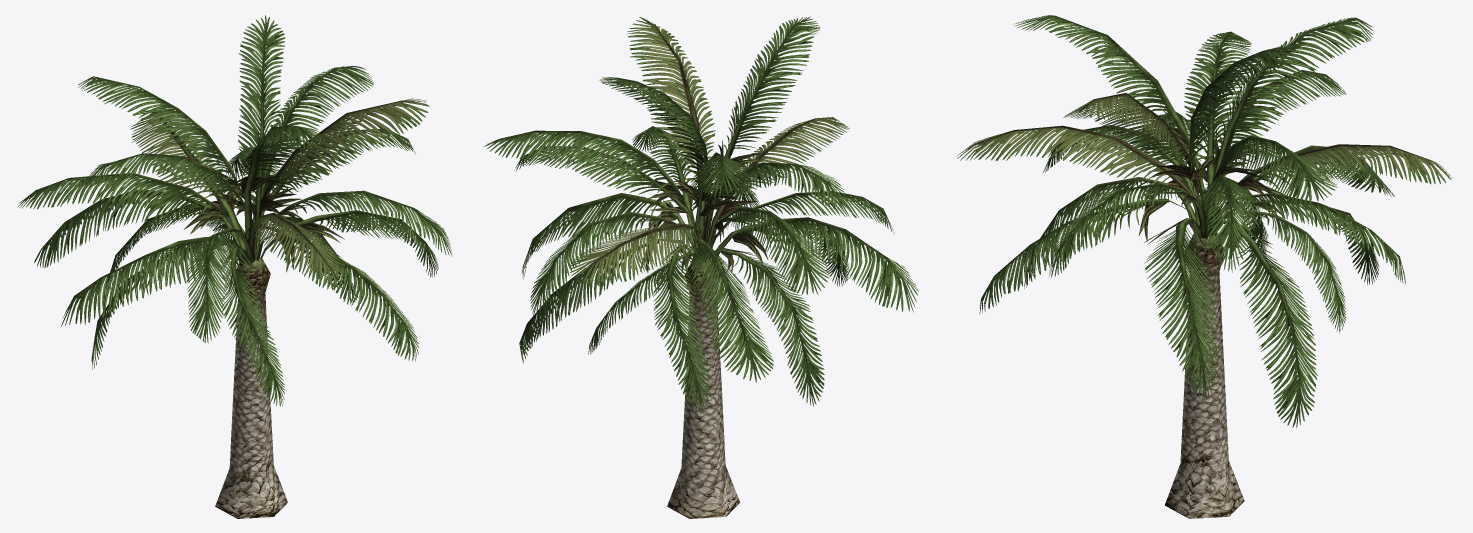
The model's file is Tree_DatePlam_Lod2.fbx.
The picture shows the model from 3 angles, left to right: view 1: azimuth 30°, elevation 25°; view 2: azimuth 150°, elevation 25°; view 3: azimuth 270°, elevation 25°; orthographic projection. The views are drawn at different scales.
Parts seen in each view (by area): view 1: Tree_DatePlam_Lod2; view 2: Tree_DatePlam_Lod2; view 3: Tree_DatePlam_Lod2.
Part boxes in pixels (x1,y1,x2,y2): Tree_DatePlam_Lod2: [17, 15, 452, 518]; Tree_DatePlam_Lod2: [484, 16, 918, 518]; Tree_DatePlam_Lod2: [957, 15, 1452, 518].
Bounding box in the file's own units: 909 × 1006 × 950.
Materials: 2 (2 with a texture image).
